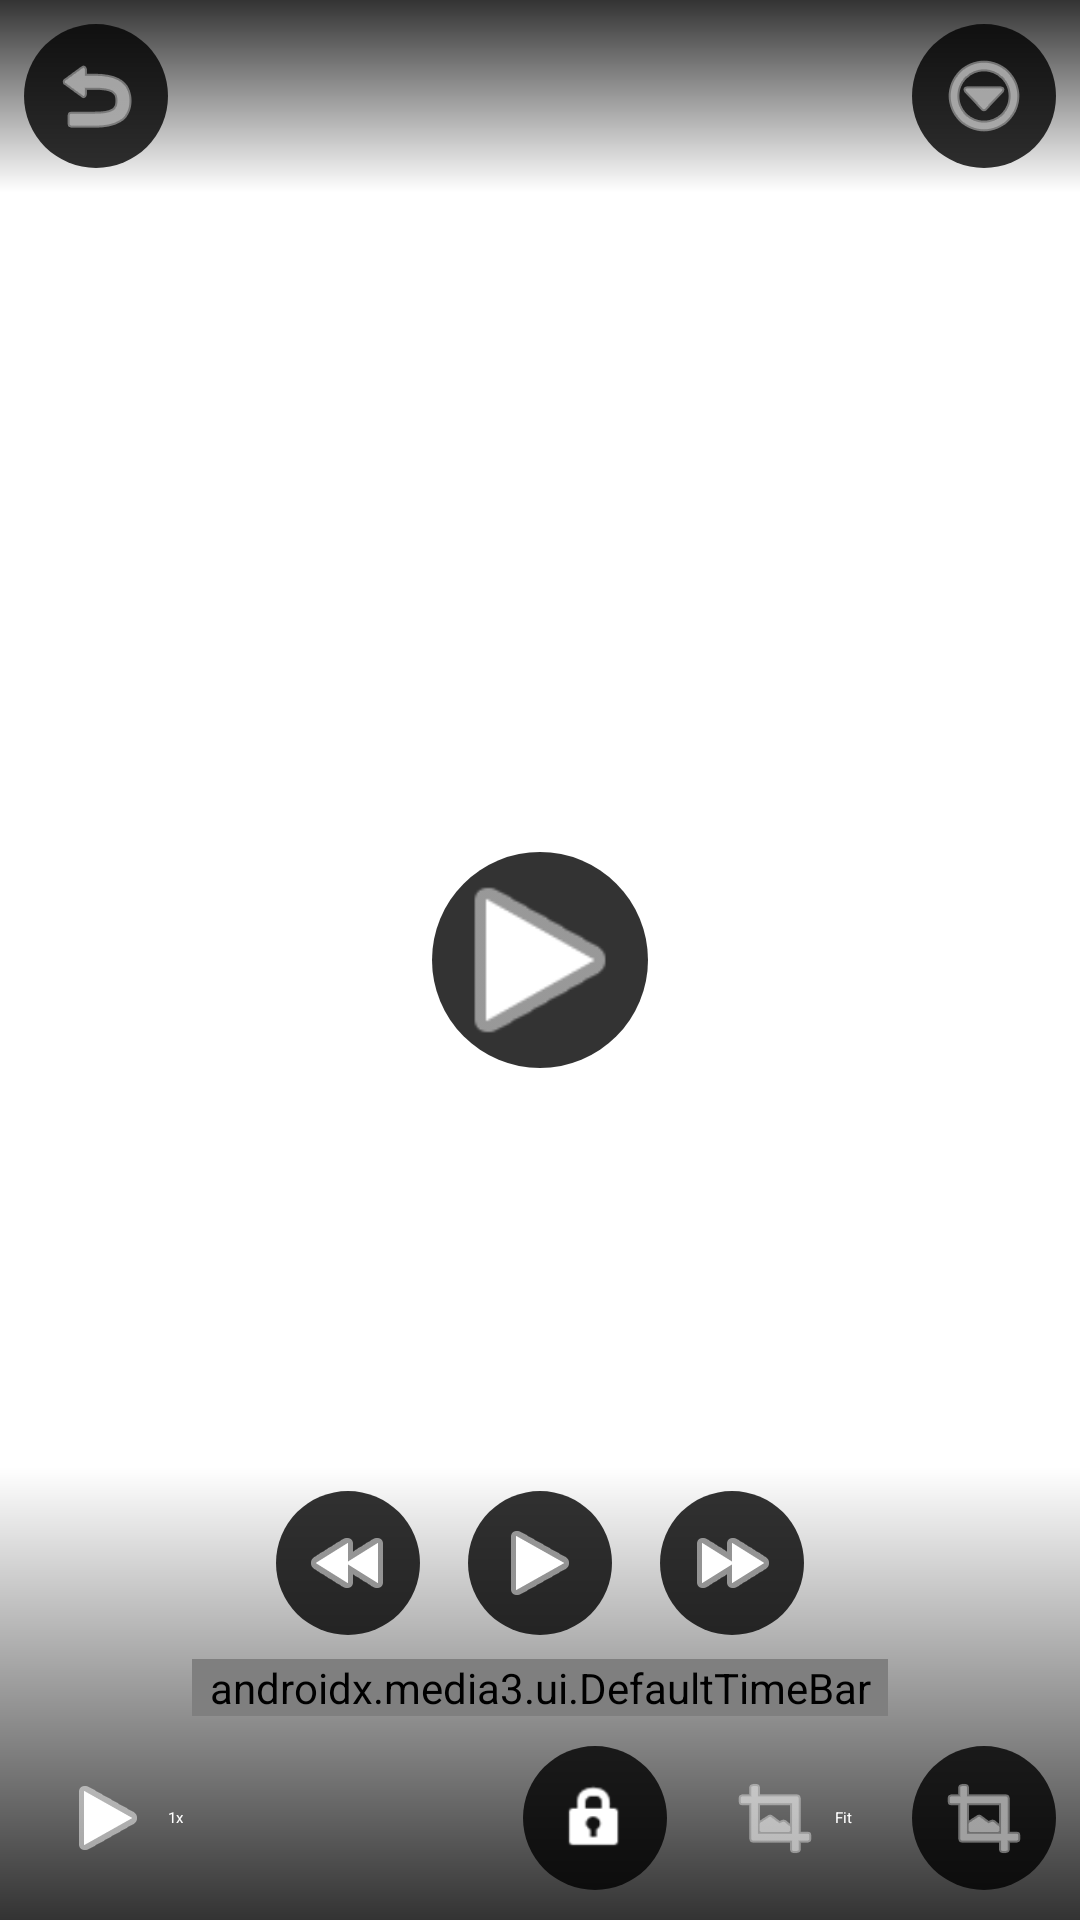

Point at icon controls on the screen. Image size 1080px×1920px, points as [x,y].
Back: [96,96]
Forward: [732,1563]
Lock orientation: [595,1818]
More options: [984,96]
Play or pause: [540,960], [540,1563]
Rewind: [348,1563]
